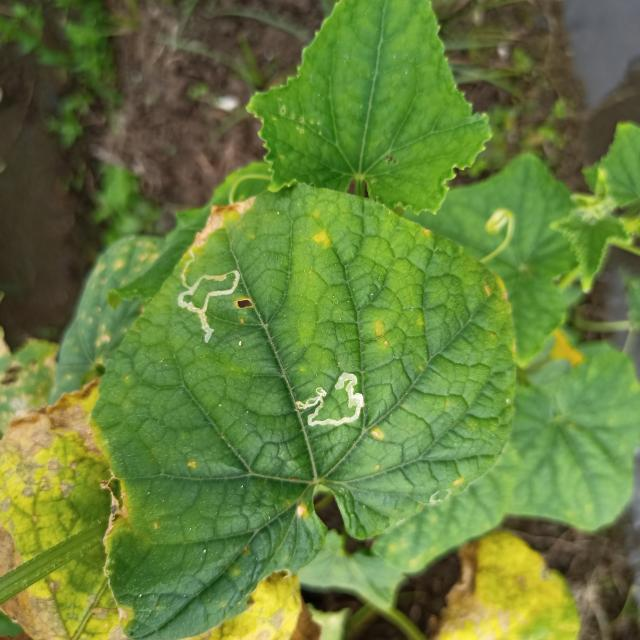disease_cucumber: (484, 272, 514, 314), (308, 212, 332, 248), (370, 317, 394, 345), (370, 421, 384, 443), (451, 474, 469, 488), (185, 459, 204, 470), (296, 499, 306, 519)
